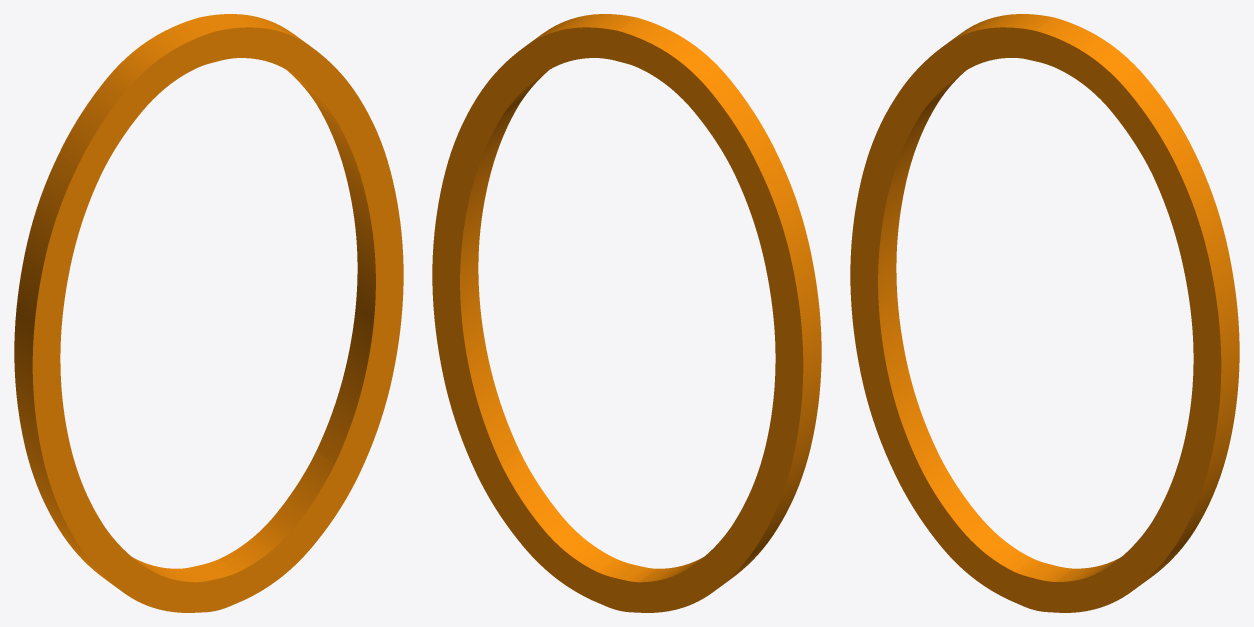
3 views of the same model, side by side, from view 1: azimuth 30°, elevation 25°; view 2: azimuth 150°, elevation 25°; view 3: azimuth 330°, elevation 25° (orthographic).
Visible parts, largest first — view 1: 0; view 2: 0; view 3: 0.
Part boxes in pixels (x1,y1,x2,y2): 0: [14, 14, 403, 612]; 0: [432, 14, 821, 612]; 0: [850, 14, 1239, 612].
Bounding box in the file's own units: 58.31 × 87.06 × 5.
